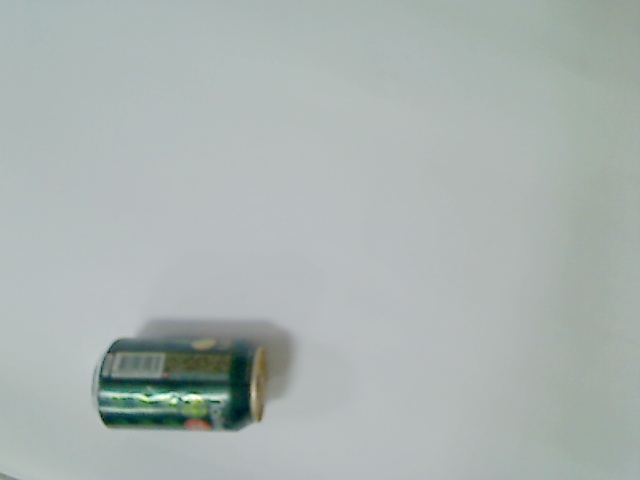can: (87, 336, 274, 432)
